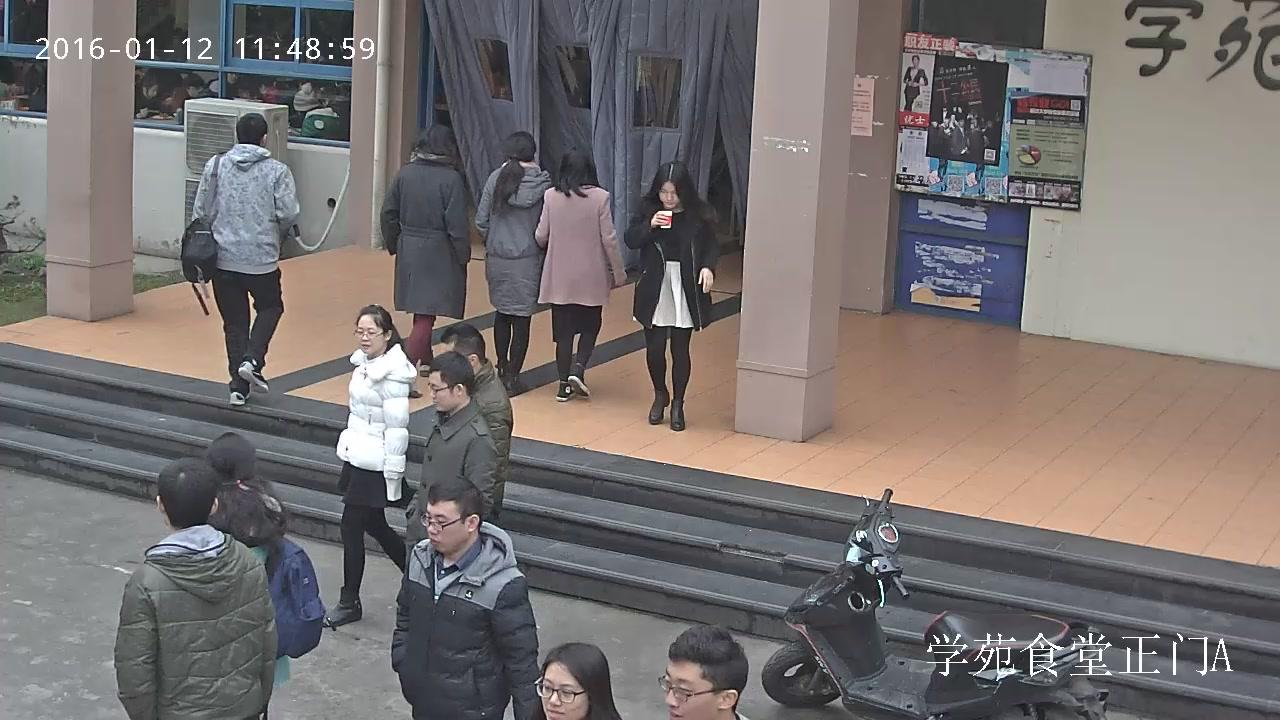person: (114, 457, 277, 720), (180, 432, 325, 720), (390, 476, 544, 720), (179, 111, 299, 409), (316, 302, 423, 626), (379, 118, 471, 398), (626, 161, 713, 431), (535, 150, 627, 401), (474, 131, 552, 395), (401, 350, 499, 538), (433, 322, 513, 552), (287, 82, 343, 148), (174, 73, 219, 126), (903, 55, 928, 112), (133, 76, 164, 121)
